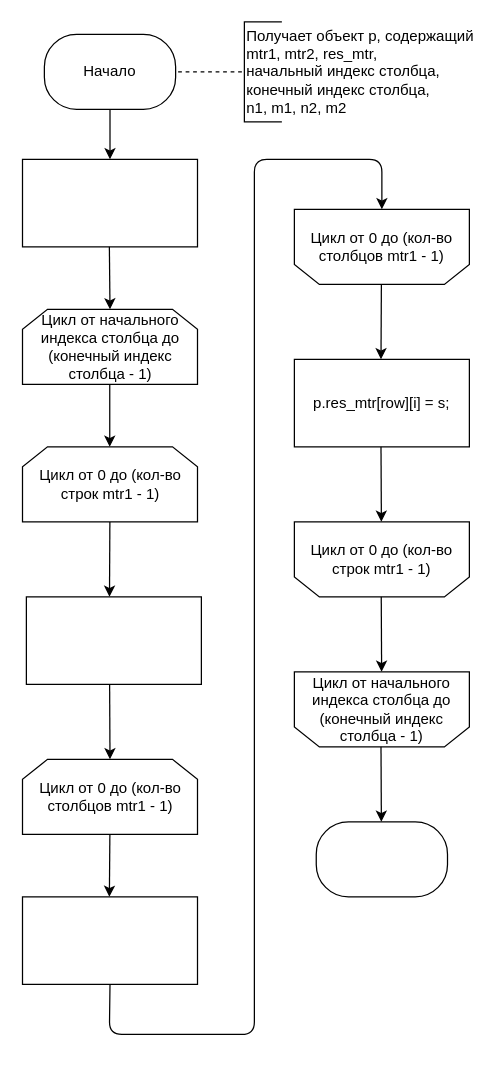
This 495x1066 diagram has some shape labels left out. The box of each missing label's shape, as (x1, y1, x2, y2) in pixels:
s += p.mtr1[i][j] * p.mtr2[j][col];: (21, 896, 198, 984)
s = 0: (25, 596, 201, 684)
Инициализация s = 0: (21, 158, 198, 247)
Конец: (315, 821, 448, 897)
